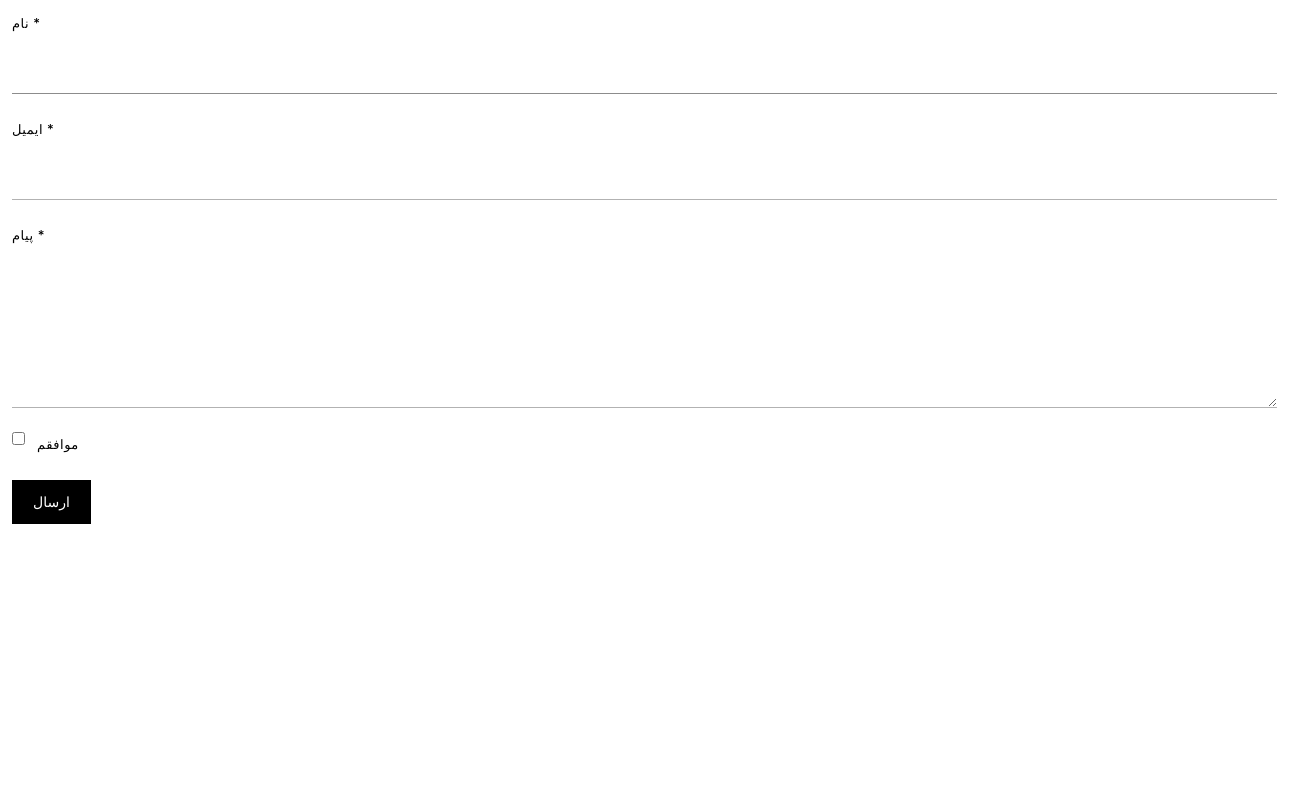
it: submission › keeps what was typed when the CMS rejects the submission
In the field named "email": (644, 175) [12,149,1277,200], type "a@example.com"
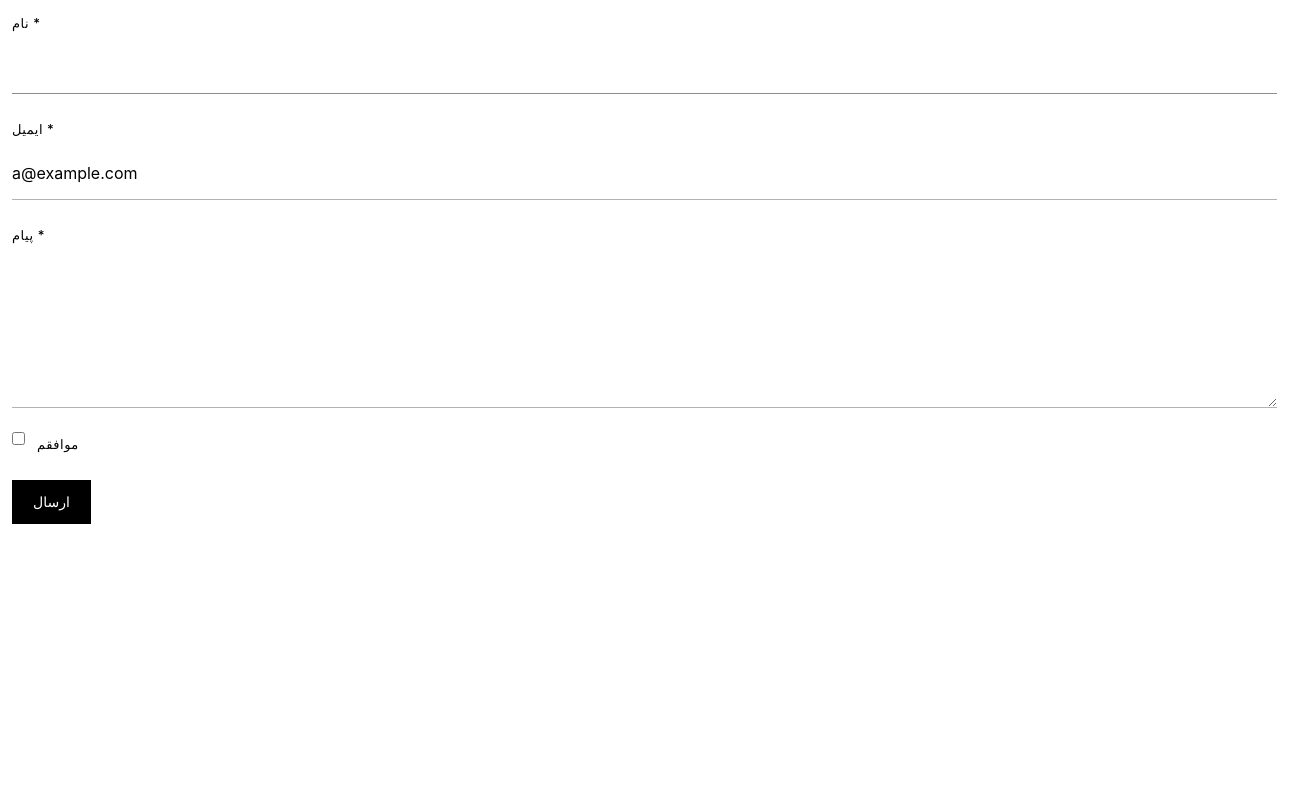
In the text box named "message": (644, 332) [12,255,1277,408], type "سلام"
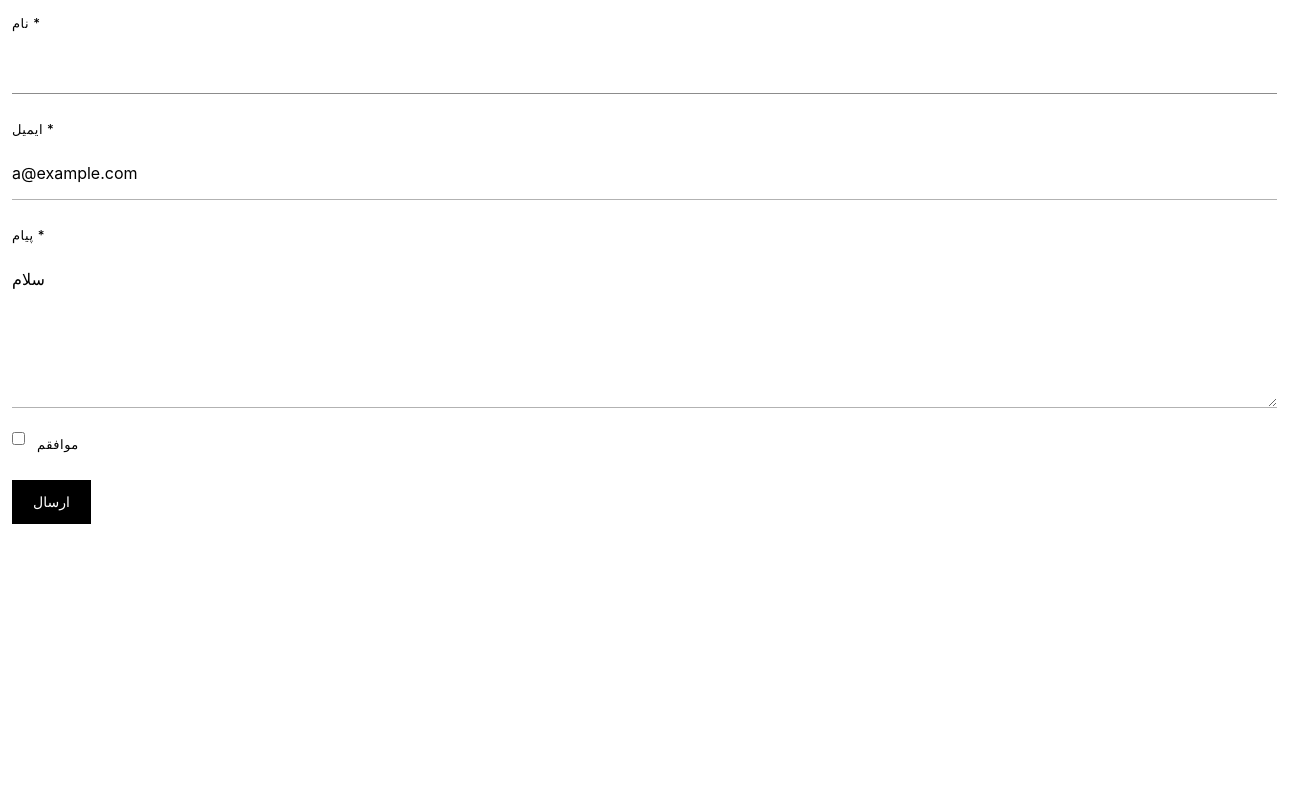
In the field named "name": (644, 69) [12,43,1277,94], type "نمونه"
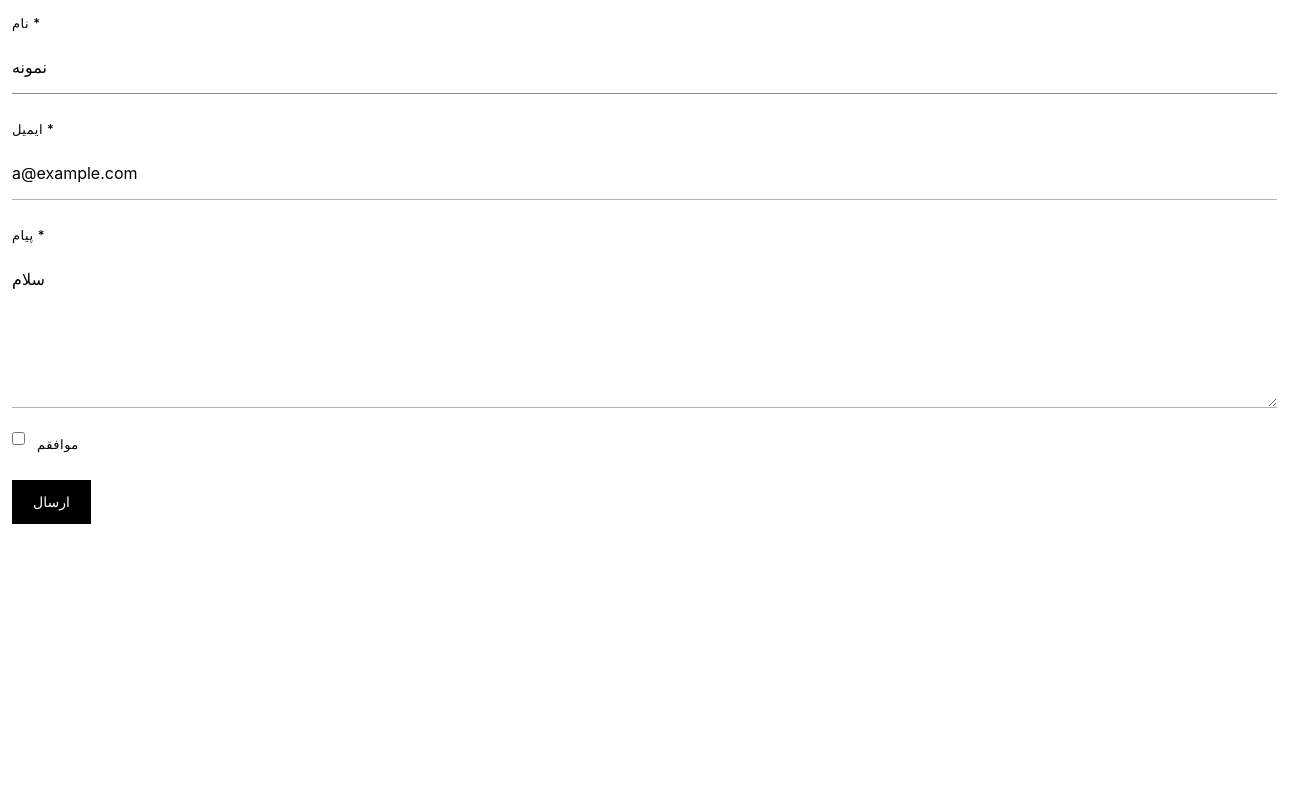
Click the checkbox named "consent": (18, 439) [12,432,25,445]
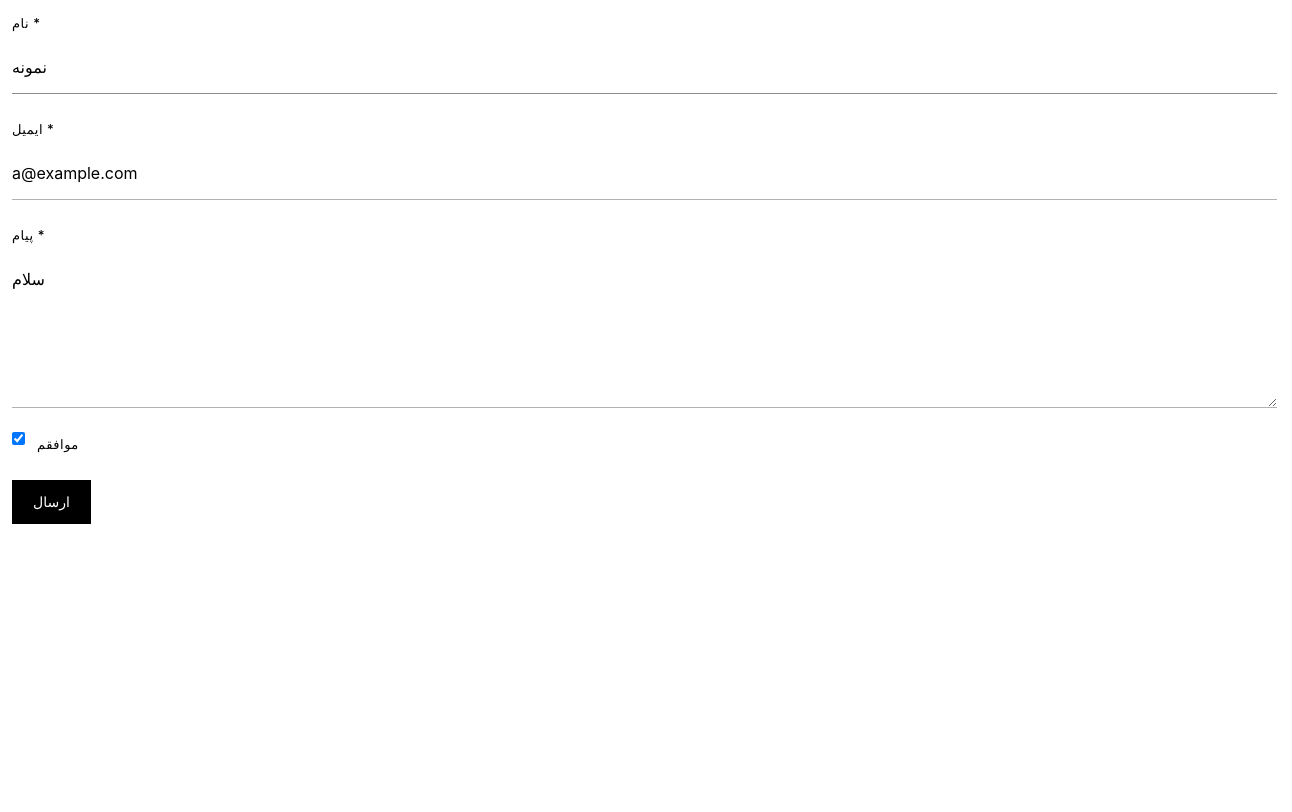
Submit the form
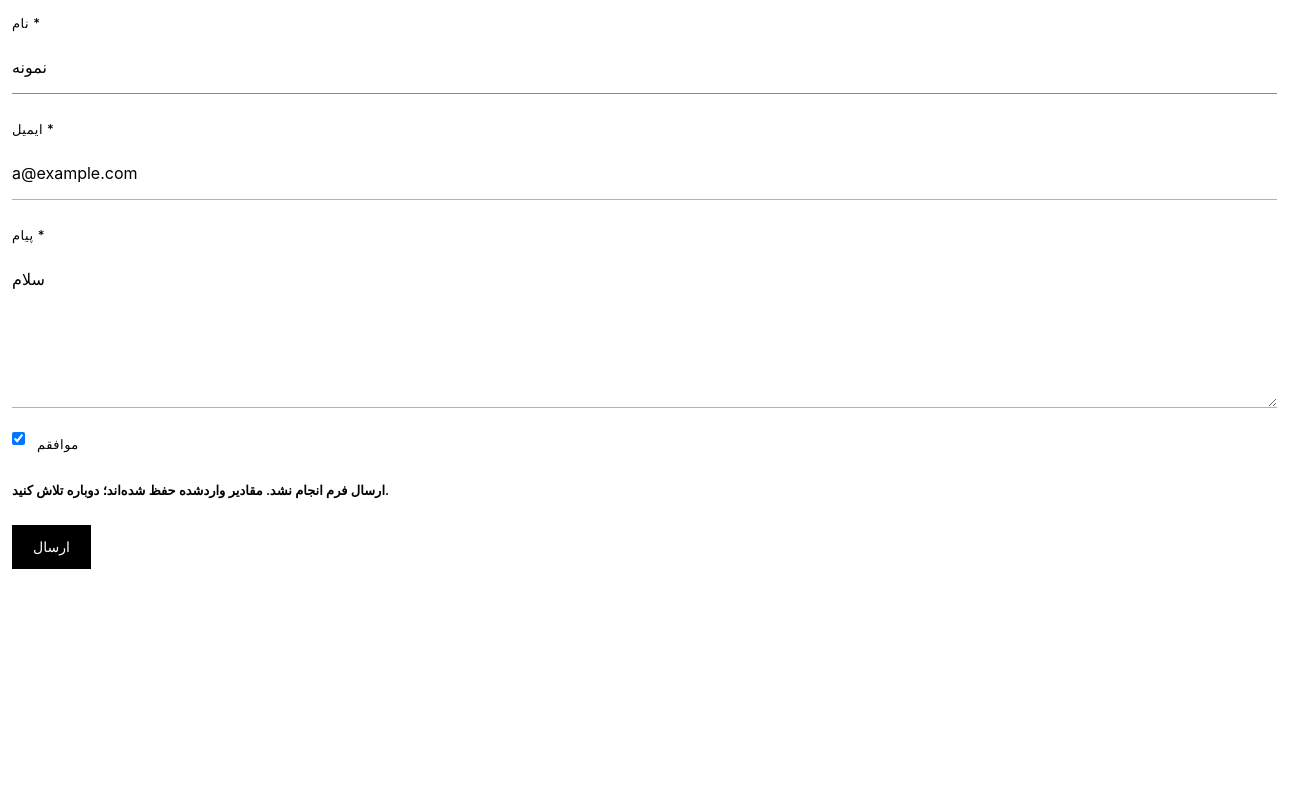
Result: the text "ارسال فرم انجام نشد" is shown at [12,482,389,498]
